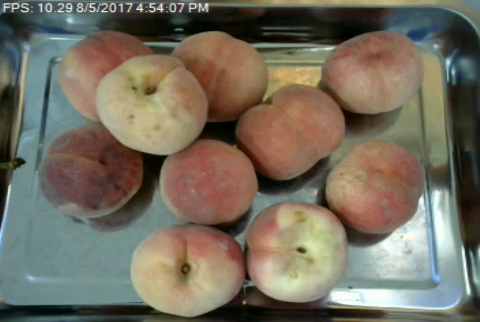Peach: (94, 53, 206, 155), (129, 223, 245, 318), (234, 85, 347, 182), (243, 202, 349, 303), (53, 28, 156, 127), (318, 29, 431, 116), (325, 138, 425, 235), (41, 123, 143, 214), (173, 30, 272, 120), (160, 137, 258, 225)
